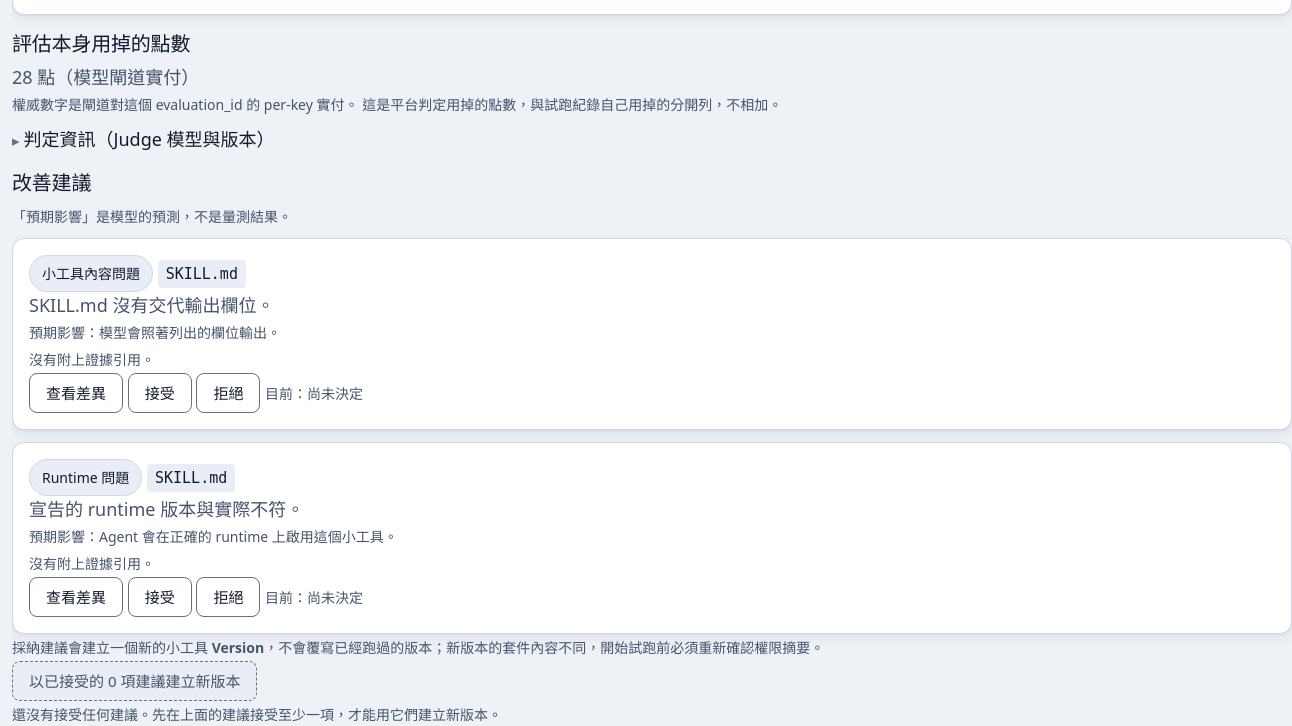
EVAL-002 a suggestion that cannot be applied names the rule that blocked it
The width and height of the screenshot is (1292, 726).
(page scrolled)
Click the button "查看差異" below "小工具內容問題". click: (76, 393)
box: [29, 373, 123, 413]
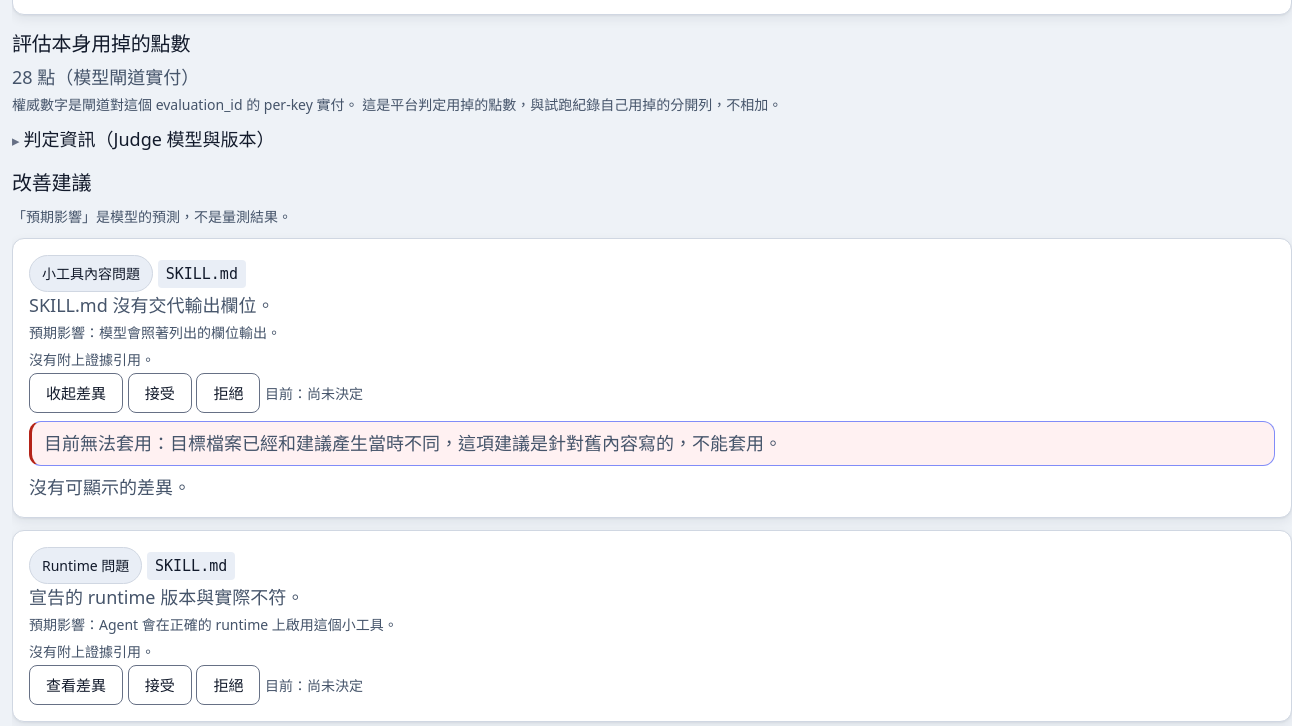
expect the button "收起差異" is expanded: met
expect the text "目標檔案已經和建議產生當時不同" is shown: met, box [170, 431, 782, 455]
Click the button "收起差異". click: (76, 393)
box: [29, 373, 123, 413]
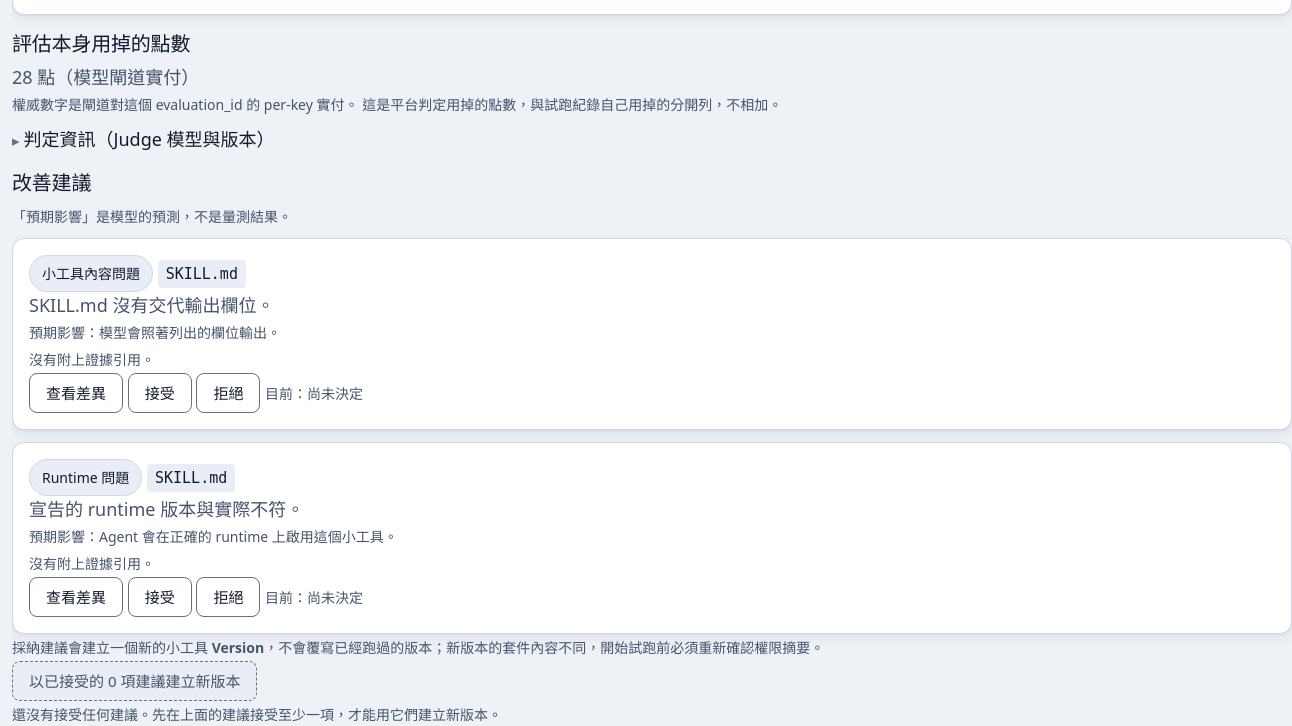
expect the button "查看差異" below "小工具內容問題" is collapsed: met
expect the element named "建議差異" is gone: met
Click the button "查看差異" below "小工具內容問題". click: (76, 393)
box: [29, 373, 123, 413]
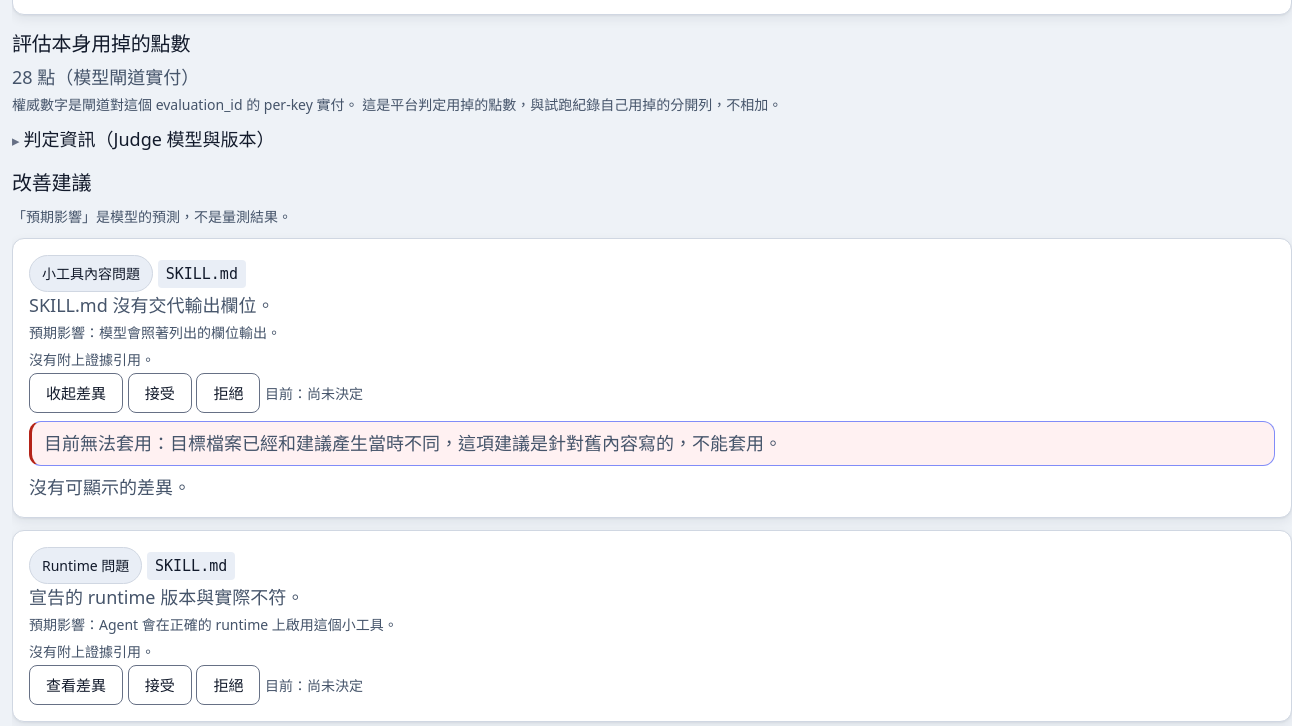
expect the button "收起差異" is expanded: met, box [29, 373, 123, 413]
